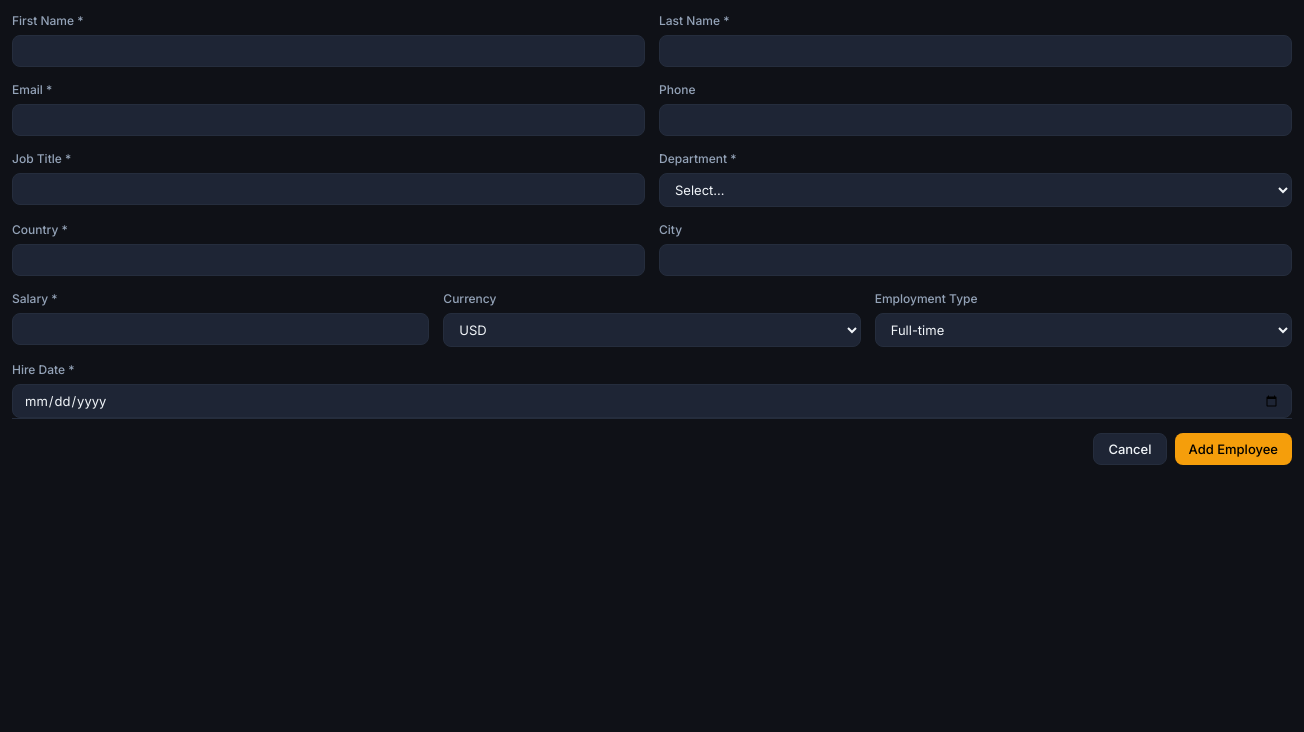
Test: EmployeeForm › shows required errors on empty submit
The image size is (1304, 732).
Click the button "Add Employee" at (1233, 449), box [1174, 433, 1292, 465]
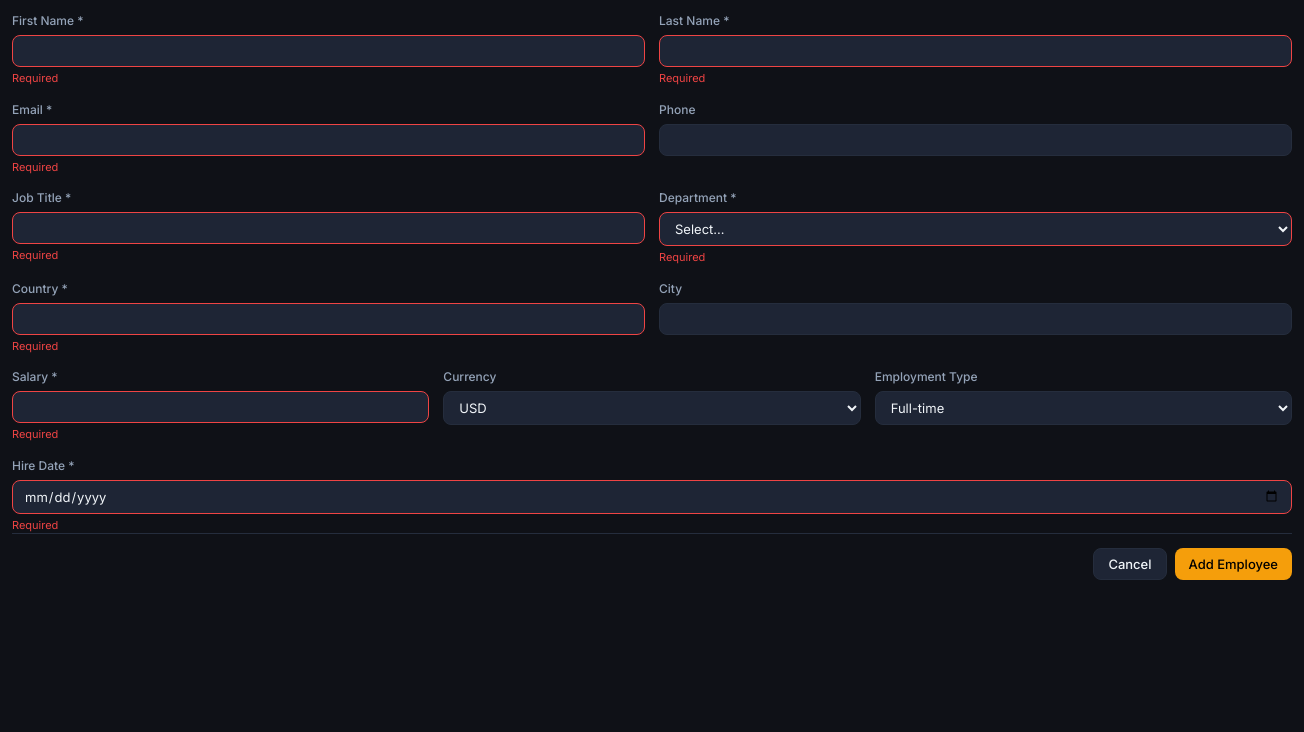
Expected: the text "Required" below "First Name" is shown, [12, 71, 58, 85]
